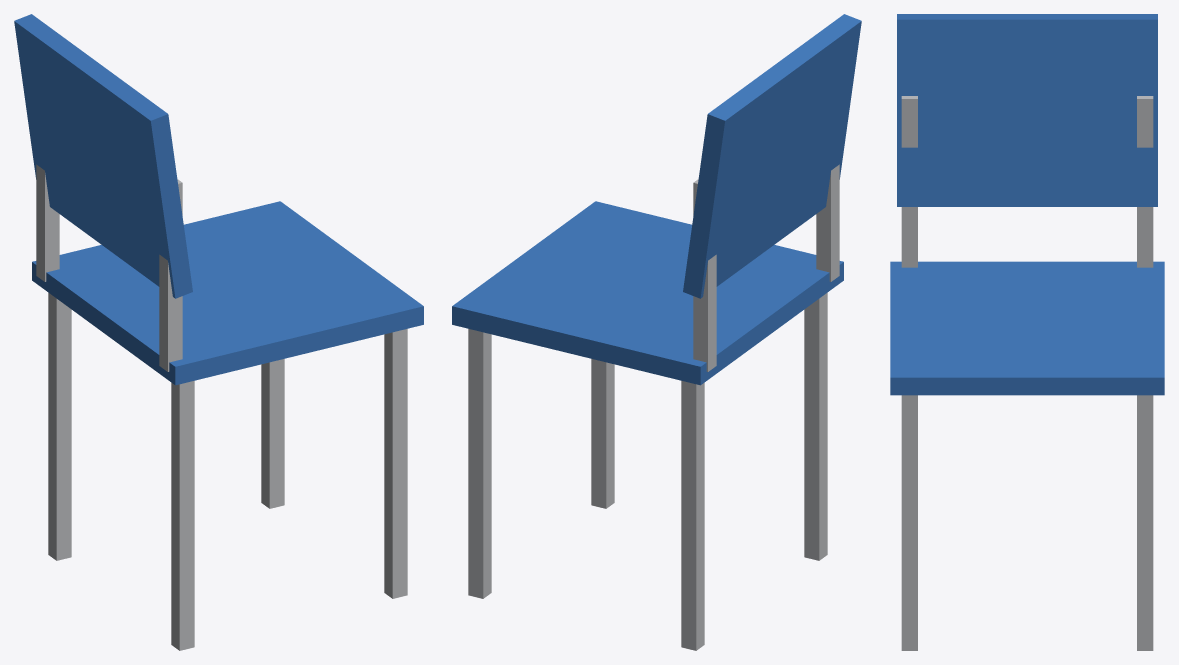
Rendered from SM_Prop_Chair.glb.
3 renders of one model, left to right at view 1: azimuth 30°, elevation 25°; view 2: azimuth 150°, elevation 25°; view 3: azimuth 270°, elevation 25°, orthographic. The views are drawn at different scales.
Visible parts, largest first — view 1: SM_Prop_Chair; view 2: SM_Prop_Chair; view 3: SM_Prop_Chair.
Part boxes in pixels (x1,y1,x2,y2): SM_Prop_Chair: (14, 14, 423, 650); SM_Prop_Chair: (452, 14, 861, 650); SM_Prop_Chair: (890, 14, 1164, 650).
Bounding box in the file's own units: 0.4557 × 0.8756 × 0.42.
